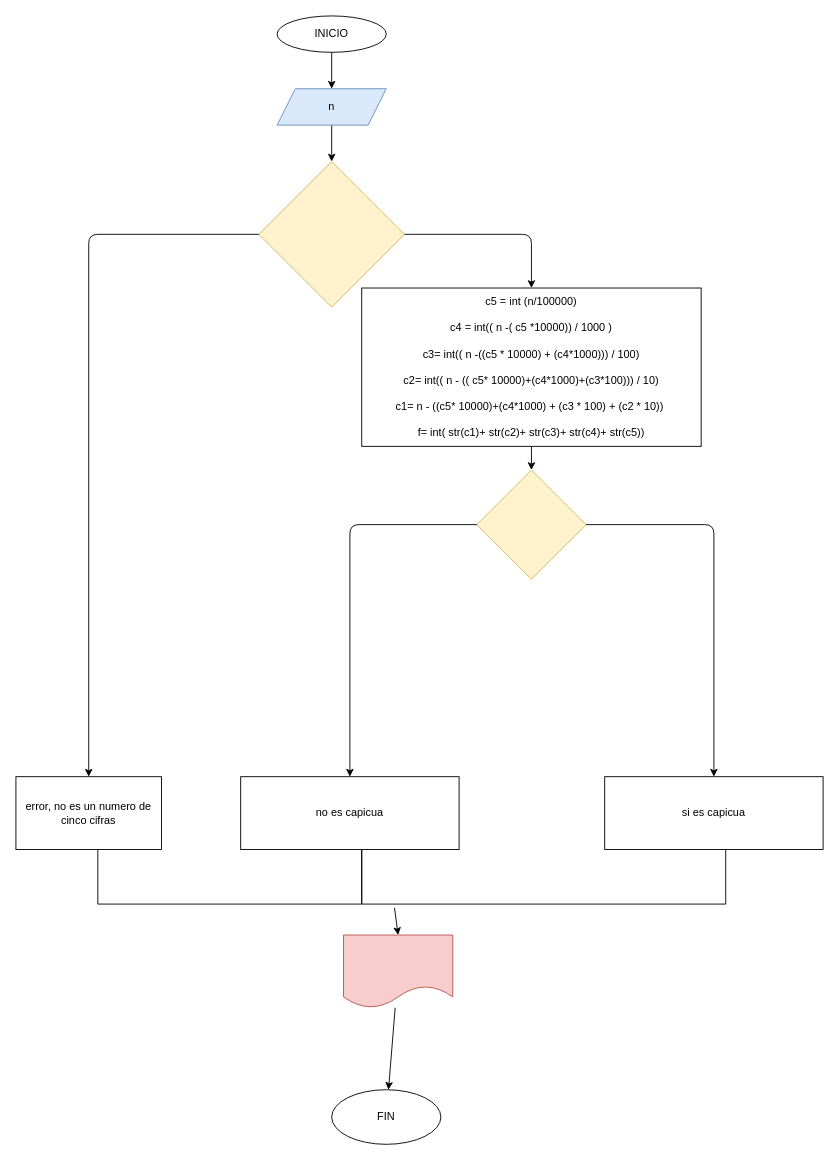
The diagram is 839 pixels wide and 1160 high, and some of its shapes have lost their labels. The shapes that lost their labels are listed below. From the top down, each one's centre as x and y in pixels, then its label:
At point 331,234: "10000 <= n <= 99999".
At point 531,524: "n == f".
At point 398,971: "resultado".
